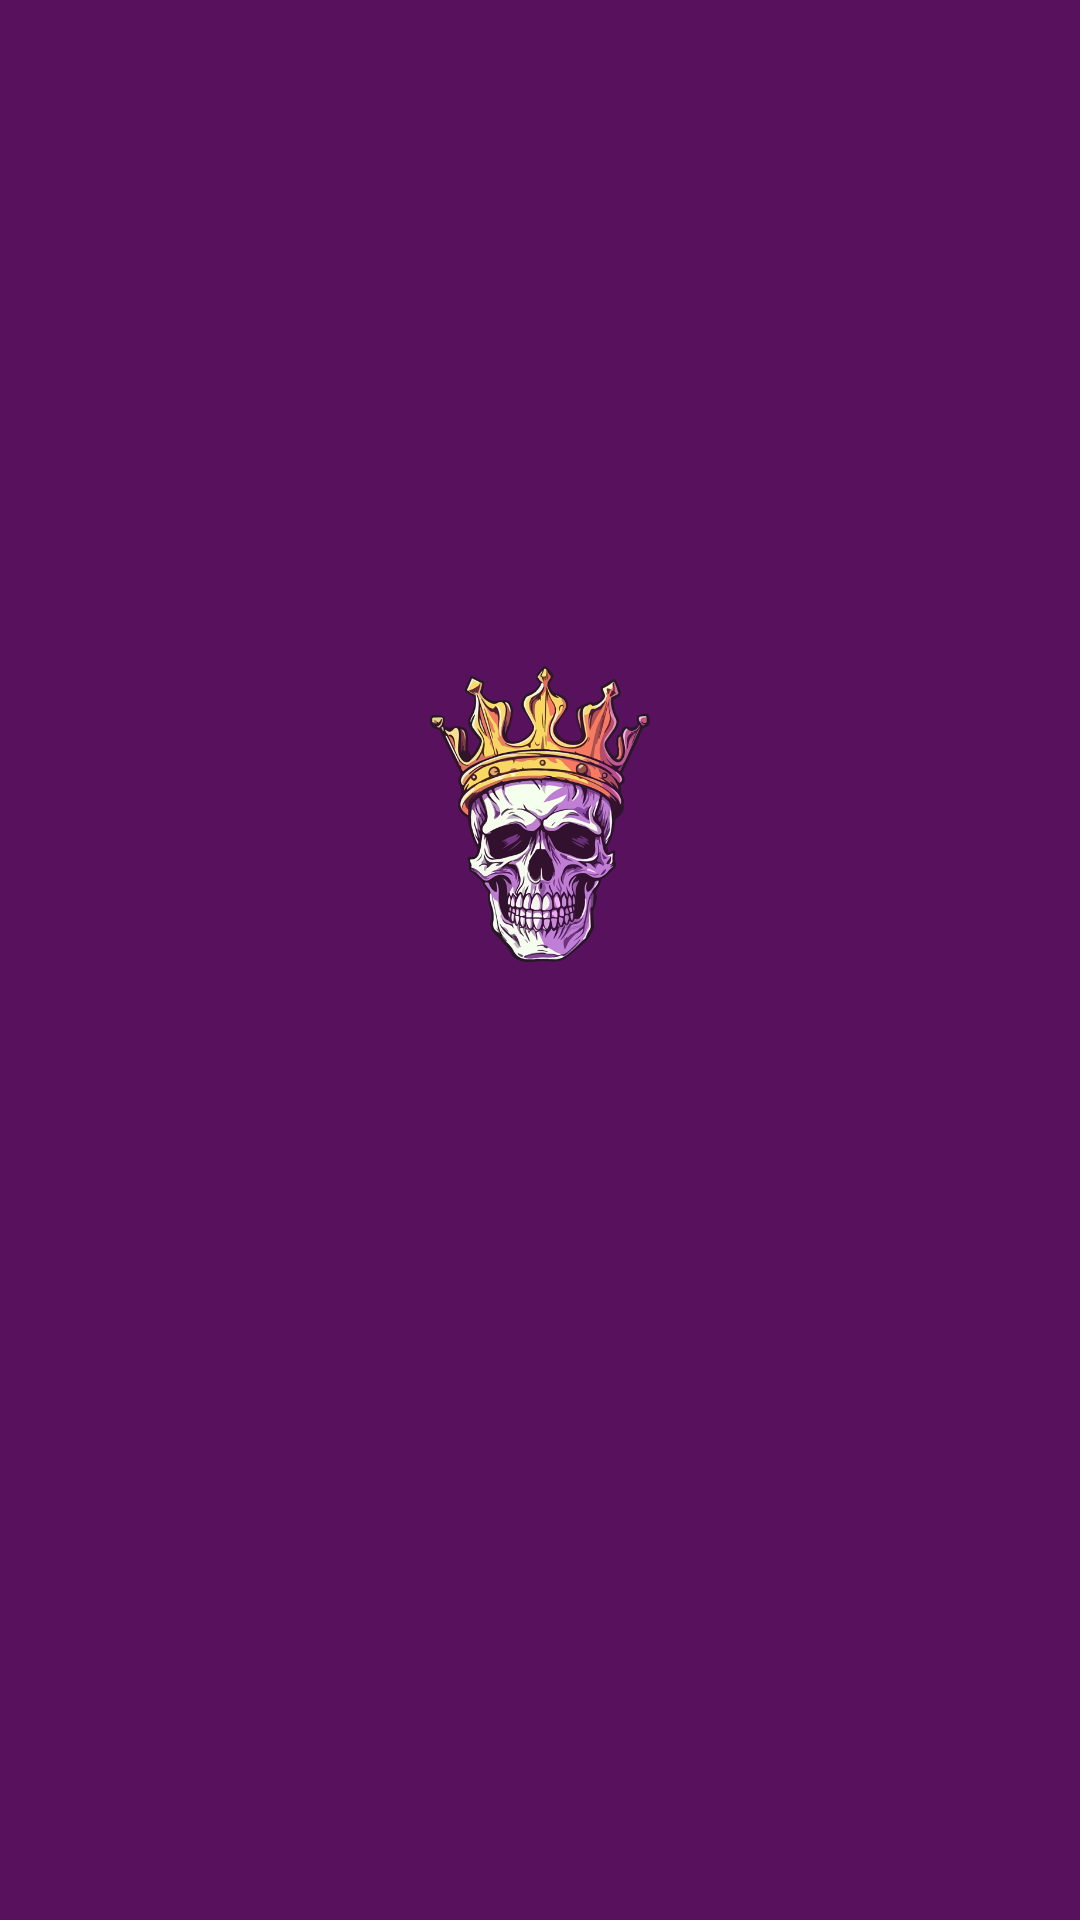

Where icons sit on this 1080w x 1920h app screen, as (x1, y1, x2, y2):
skull: (430, 666, 650, 962)
